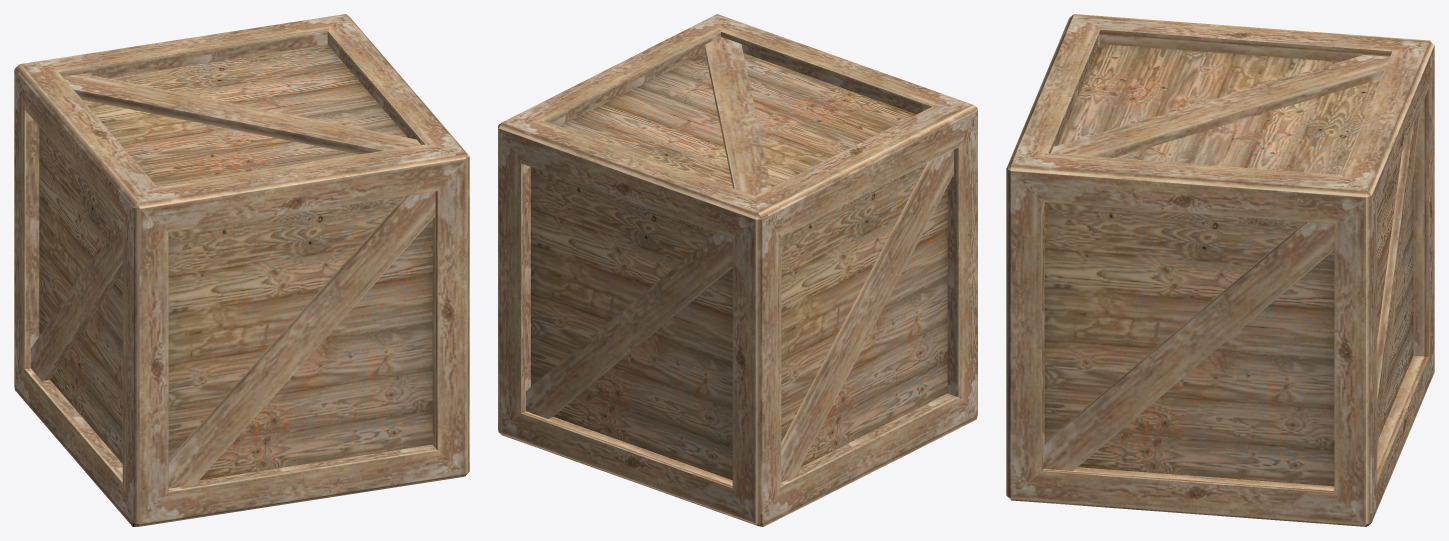
The model's file is pallettebox003_woodbox_dm_0_lev1.glb.
3 views of the same model, side by side, from view 1: azimuth 30°, elevation 25°; view 2: azimuth 150°, elevation 25°; view 3: azimuth 270°, elevation 25° (orthographic). The views are drawn at different scales.
Visible parts, largest first — view 1: pallettebox003_woodbox_dm_0_lev1; view 2: pallettebox003_woodbox_dm_0_lev1; view 3: pallettebox003_woodbox_dm_0_lev1.
Part boxes in pixels (<box>): pallettebox003_woodbox_dm_0_lev1: <box>14,14,469,526</box>; pallettebox003_woodbox_dm_0_lev1: <box>498,14,977,526</box>; pallettebox003_woodbox_dm_0_lev1: <box>1006,14,1434,526</box>.
Size of the model in its own units: 0.9263 by 0.803 by 0.9263.
1 material, 1 textured.
